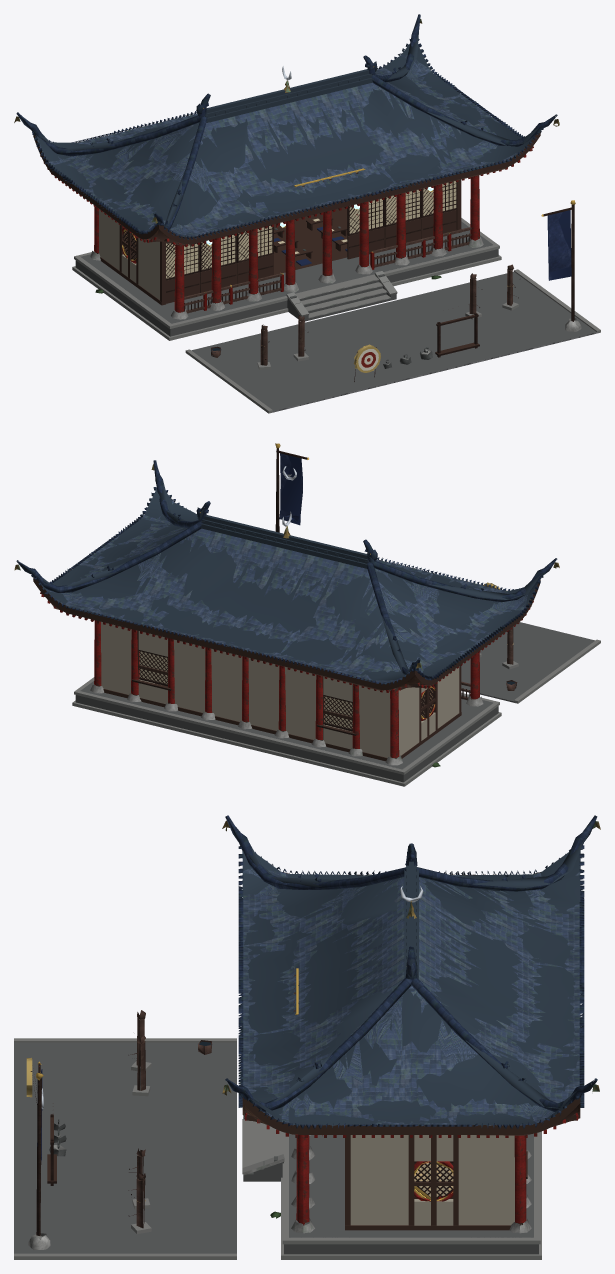
Rendered from prop_academy.gltf.
3 renders of one model, top to bottom at view 1: azimuth 30°, elevation 25°; view 2: azimuth 150°, elevation 25°; view 3: azimuth 270°, elevation 25°, orthographic. The views are drawn at different scales.
Visible parts, largest first — view 1: Far, Near; view 2: Far, Near; view 3: Far, Near.
Boxes of the visible parts, left/top/right/bottom form: Far: left=33, top=14, right=600, bottom=413; Near: left=14, top=14, right=598, bottom=412; Far: left=33, top=455, right=600, bottom=786; Near: left=14, top=443, right=559, bottom=767; Far: left=14, top=824, right=595, bottom=1259; Near: left=26, top=815, right=600, bottom=1250.
Size of the model in its own units: 19.91 by 9.43 by 18.43.
Materials: 31 (20 with a texture image).
